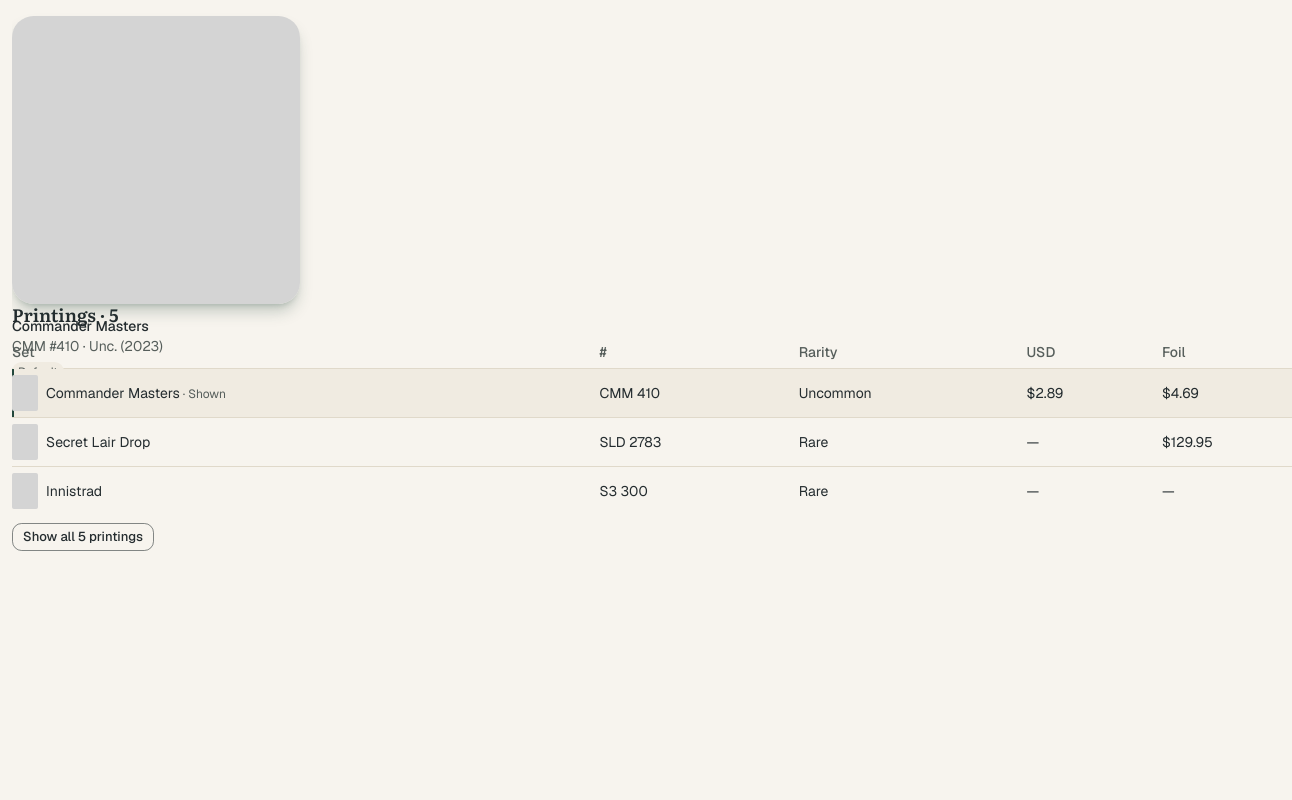
Test: the tail › a failed fetch keeps the button usable and says so
The width and height of the screenshot is (1292, 800).
Click the button "Show all 5 printings" at [83, 537], box left=12, top=523, right=154, bottom=551
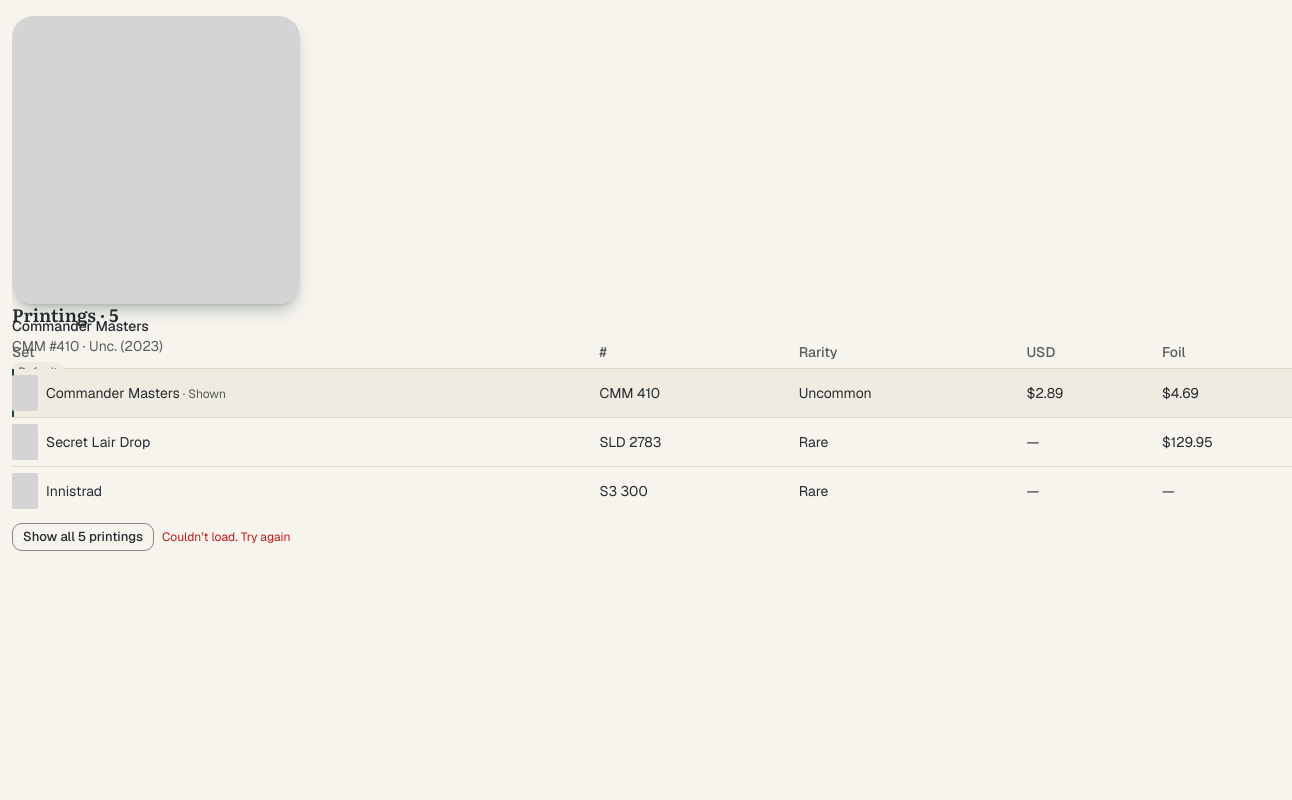
Check: the text "Couldn’t load. Try again" is shown, box left=162, top=529, right=290, bottom=545
